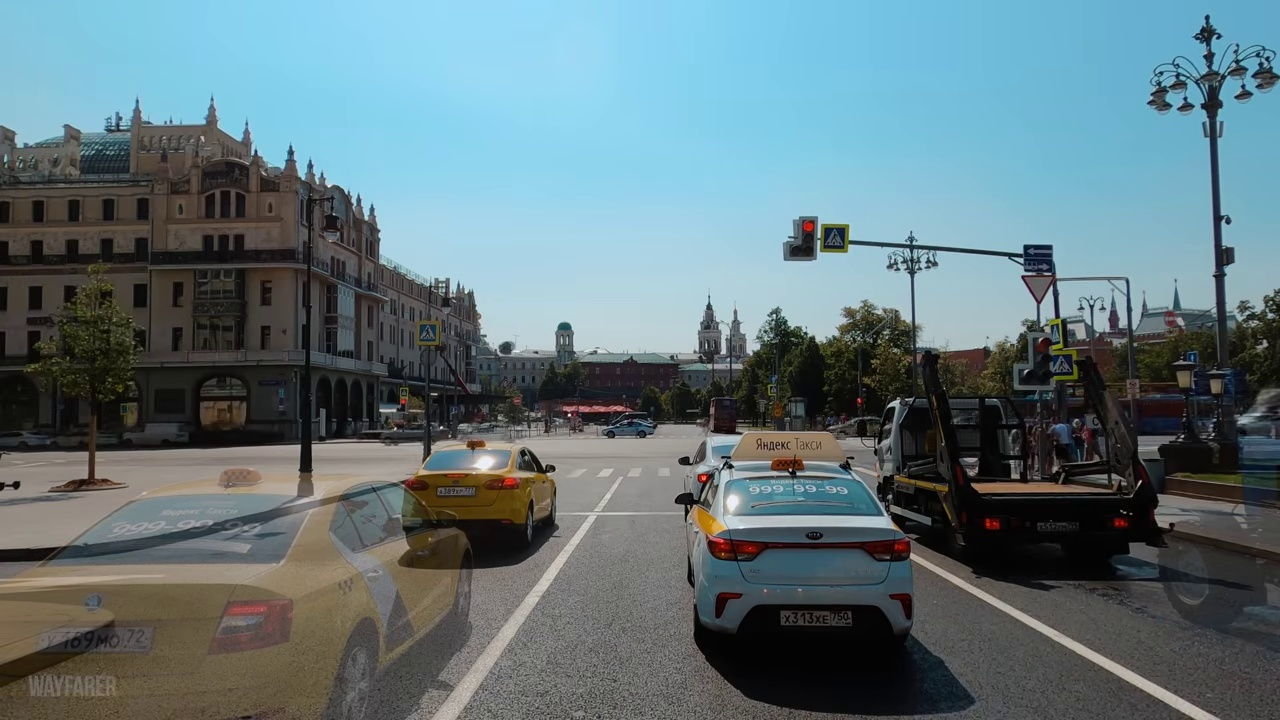apagada: (1147, 45, 1265, 133), (317, 207, 345, 253)
